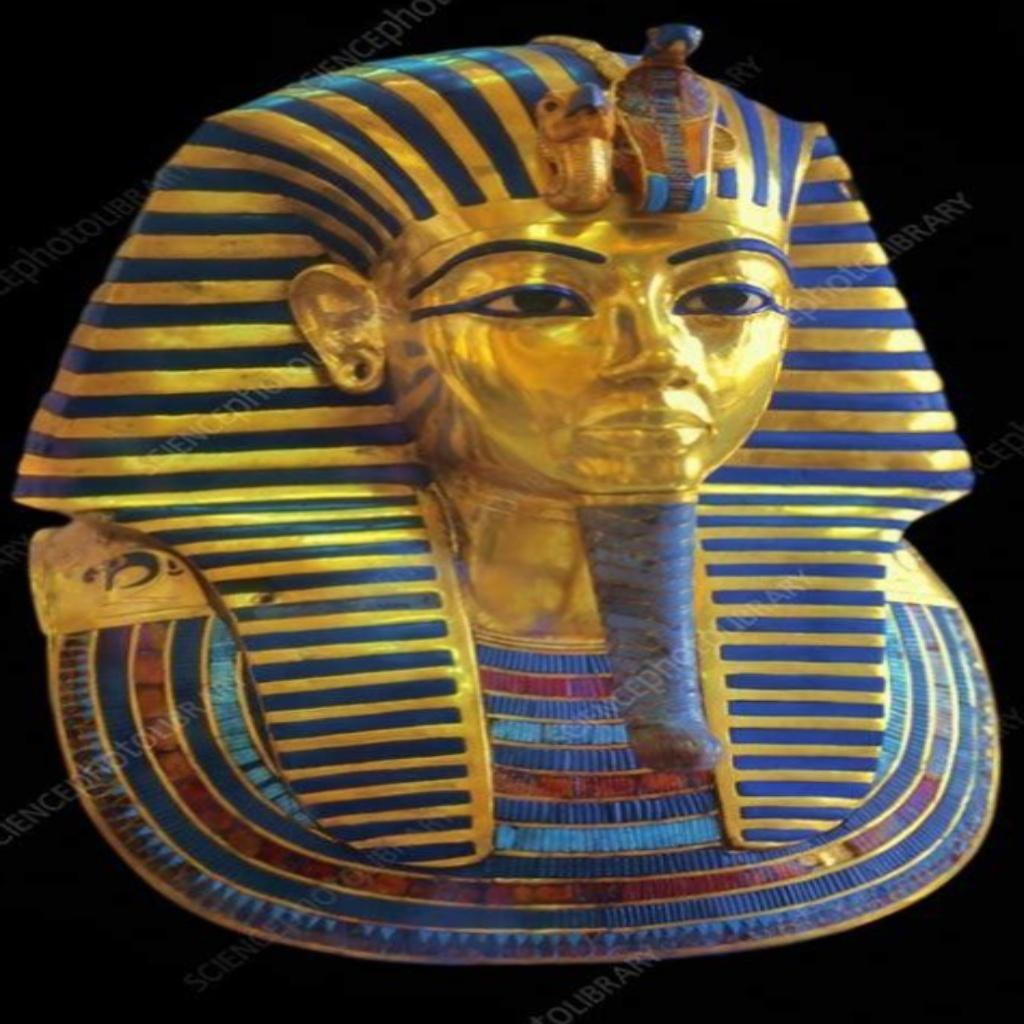Mask of Tutankhamun: (0, 12, 1013, 976)
